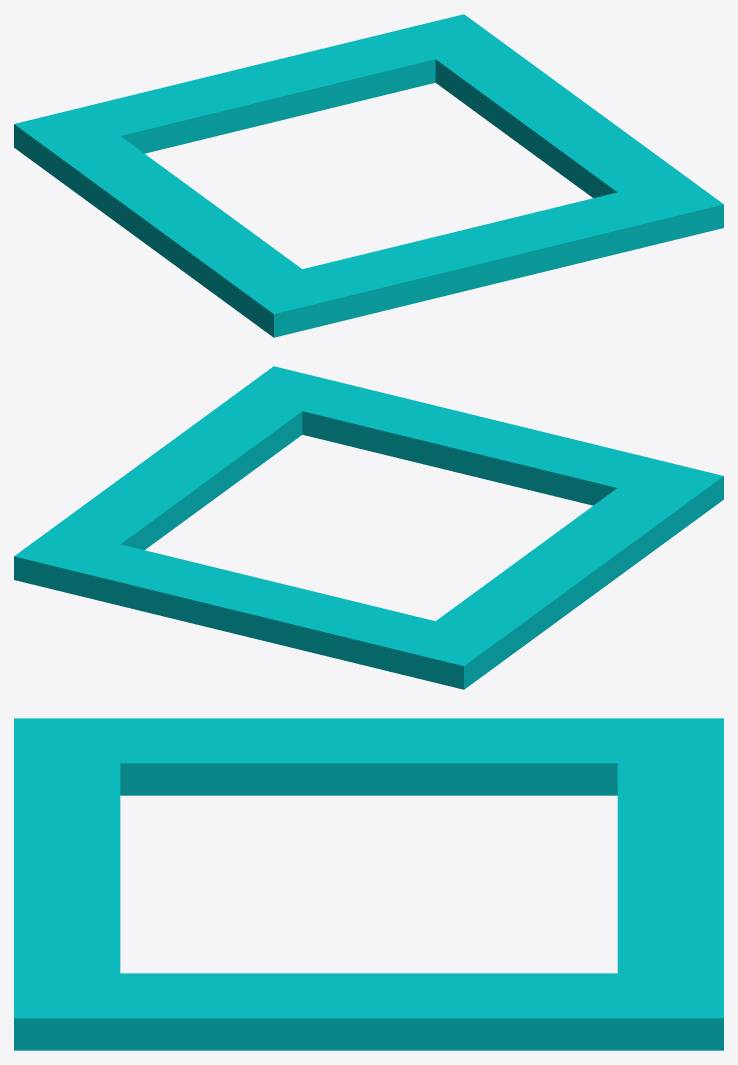
File: CubeBase-Contour.dae
3 views of the same model, one above another, from view 1: azimuth 30°, elevation 25°; view 2: azimuth 150°, elevation 25°; view 3: azimuth 270°, elevation 25° (orthographic). The views are drawn at different scales.
Parts seen in each view (by area): view 1: SketchUp (×2); view 2: SketchUp (×2); view 3: SketchUp (×2).
Part boxes in pixels (left/top/right/bottom): SketchUp (×2): left=14, top=14, right=723, bottom=337; SketchUp (×2): left=14, top=366, right=723, bottom=689; SketchUp (×2): left=14, top=718, right=723, bottom=1050.
Bounding box in the file's own units: 7.87 × 7.87 × 0.3937.
